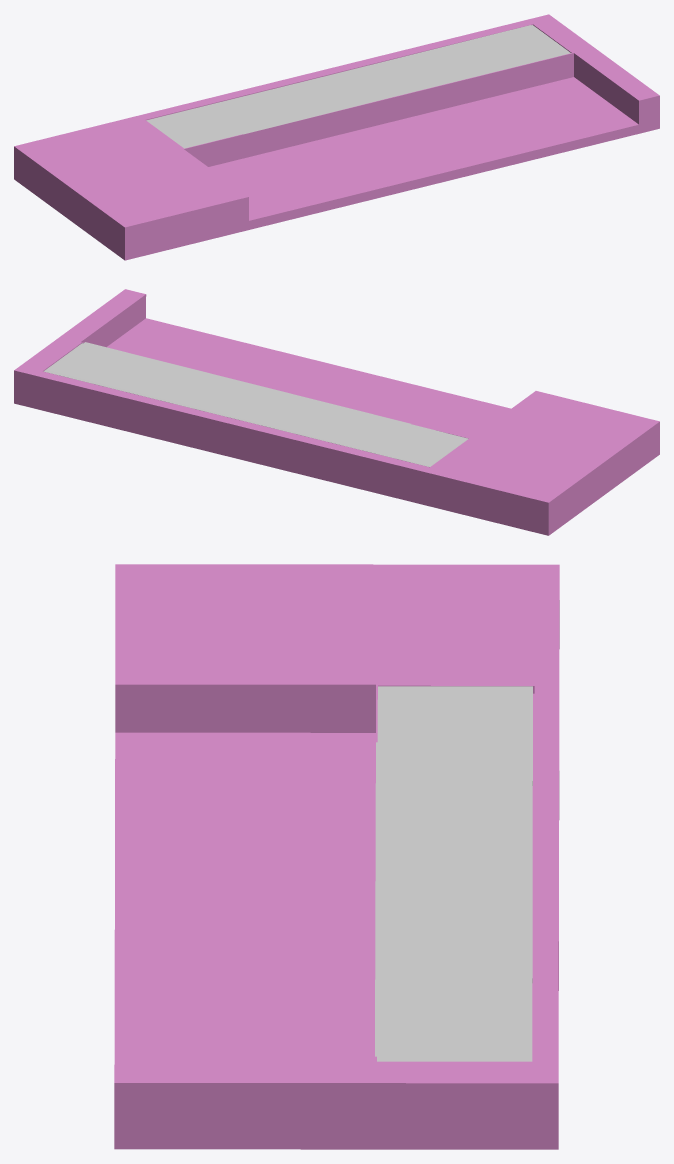
File: CasioFrame.gltf
3 renders of one model, top to bottom at view 1: azimuth 30°, elevation 25°; view 2: azimuth 150°, elevation 25°; view 3: azimuth 270°, elevation 25°, orthographic. The views are drawn at different scales.
Parts seen in each view (by area): view 1: KeyboardBase, panel; view 2: KeyboardBase, panel; view 3: KeyboardBase, panel.
Part boxes in pixels (x1,y1,x2,y2): KeyboardBase: (14, 14, 659, 260); panel: (146, 25, 570, 148); KeyboardBase: (14, 289, 659, 535); panel: (43, 342, 468, 467); KeyboardBase: (114, 564, 559, 1149); panel: (375, 686, 532, 1061).
Bounding box in the file's own units: 4.82 × 0.3083 × 1.74.
